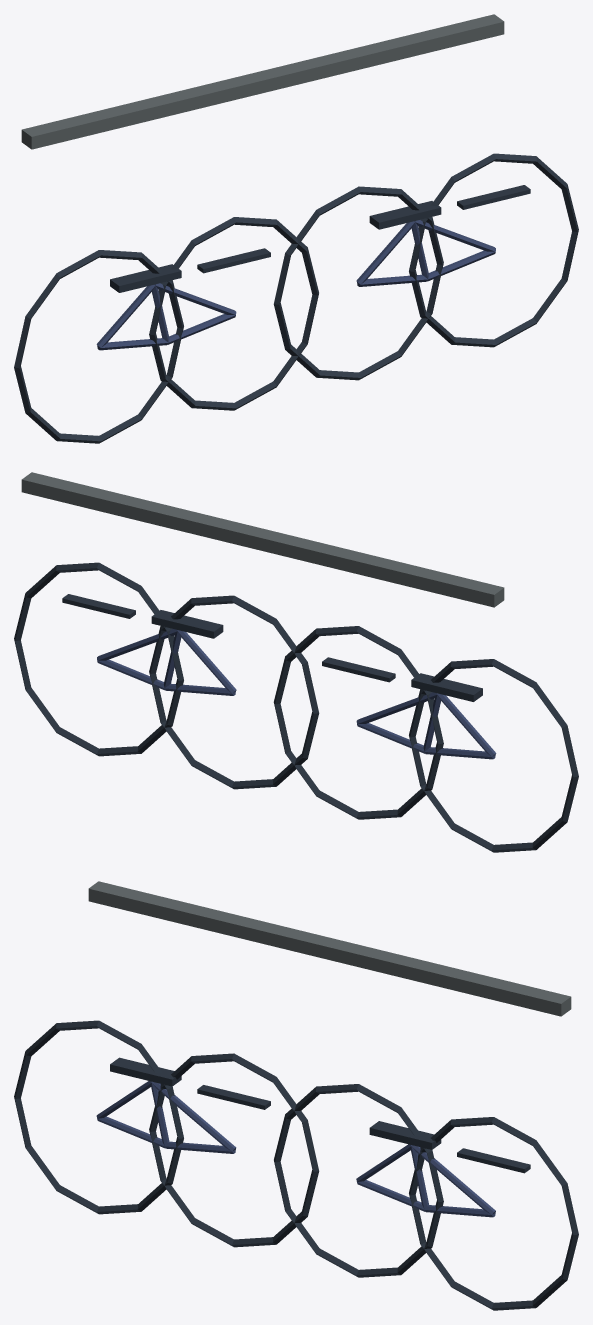
File: bike_wall.glb
3 renders of one model, top to bottom at view 1: azimuth 30°, elevation 25°; view 2: azimuth 150°, elevation 25°; view 3: azimuth 330°, elevation 25°, orthographic.
Size of the model in its own units: 2.1 by 1.05 by 0.2774.
Materials: 1 (1 with a texture image).
